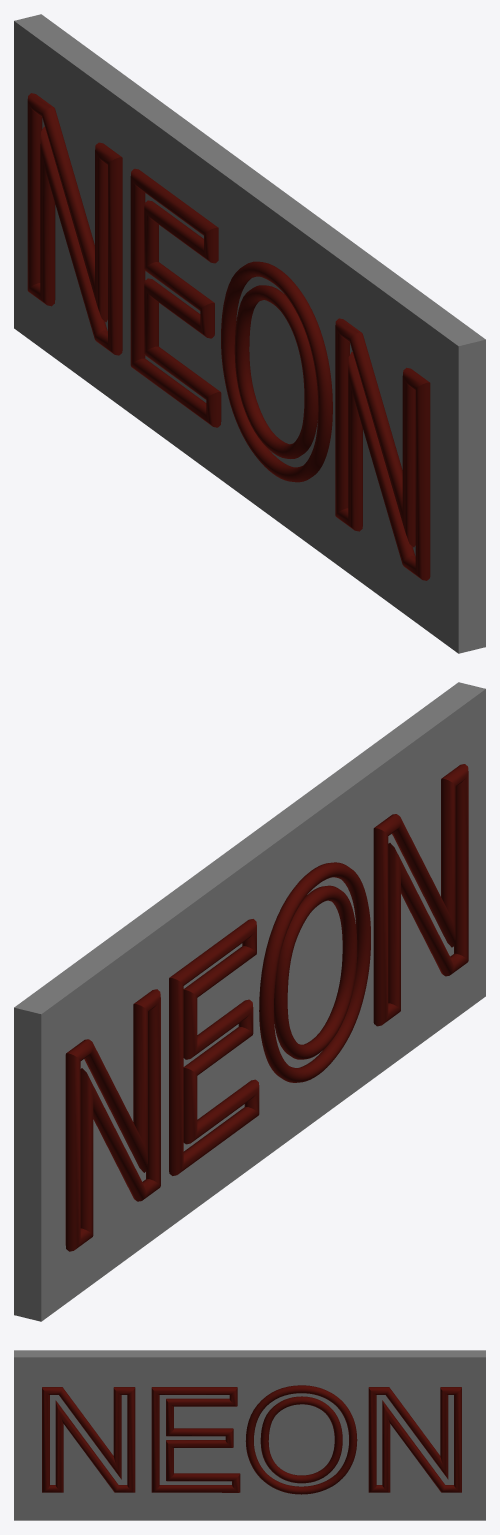
The model's file is neon_test.fbx.
3 views of the same model, one above another, from view 1: azimuth 30°, elevation 25°; view 2: azimuth 150°, elevation 25°; view 3: azimuth 270°, elevation 25° (orthographic). The views are drawn at different scales.
Visible parts, largest first — view 1: Box002; view 2: Box002; view 3: Box002.
Boxes of the visible parts, x1,y1,x2,y2 form: Box002: (14, 14, 485, 653); Box002: (14, 682, 485, 1321); Box002: (14, 1350, 485, 1520).
Bounding box in the file's own units: 22.3 × 134 × 350.
